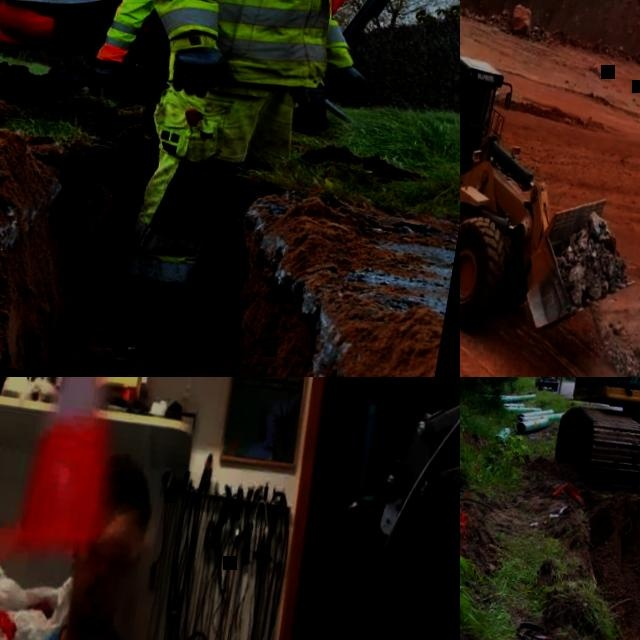NO-Hardhat: (101, 453, 161, 514)
NO-Mask: (63, 561, 118, 635)
Person: (98, 0, 414, 338), (0, 442, 229, 640), (80, 0, 173, 91)
Safety Cone: (0, 377, 165, 582)
Safety Vest: (138, 0, 362, 95), (114, 0, 342, 85)
machinery: (0, 0, 460, 166), (460, 38, 640, 362), (495, 377, 640, 640)
vehicle: (534, 377, 561, 394)
